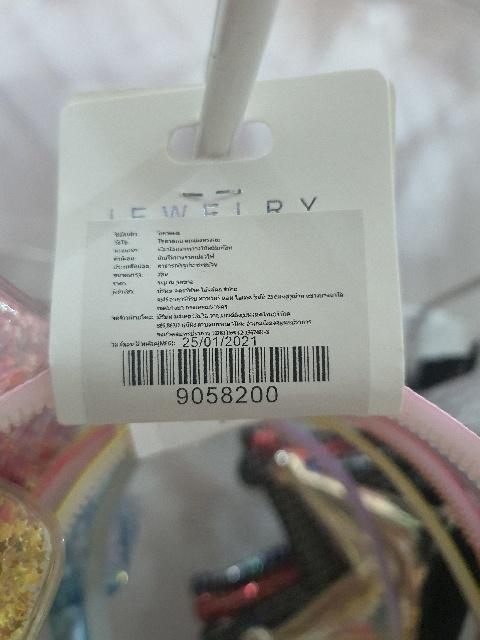Barcode: (111, 340, 348, 404)
